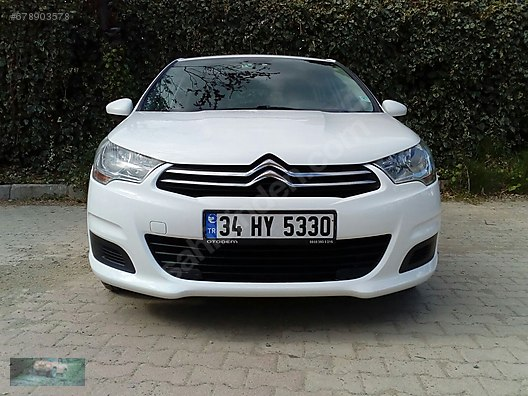c: (81, 40, 449, 314)
